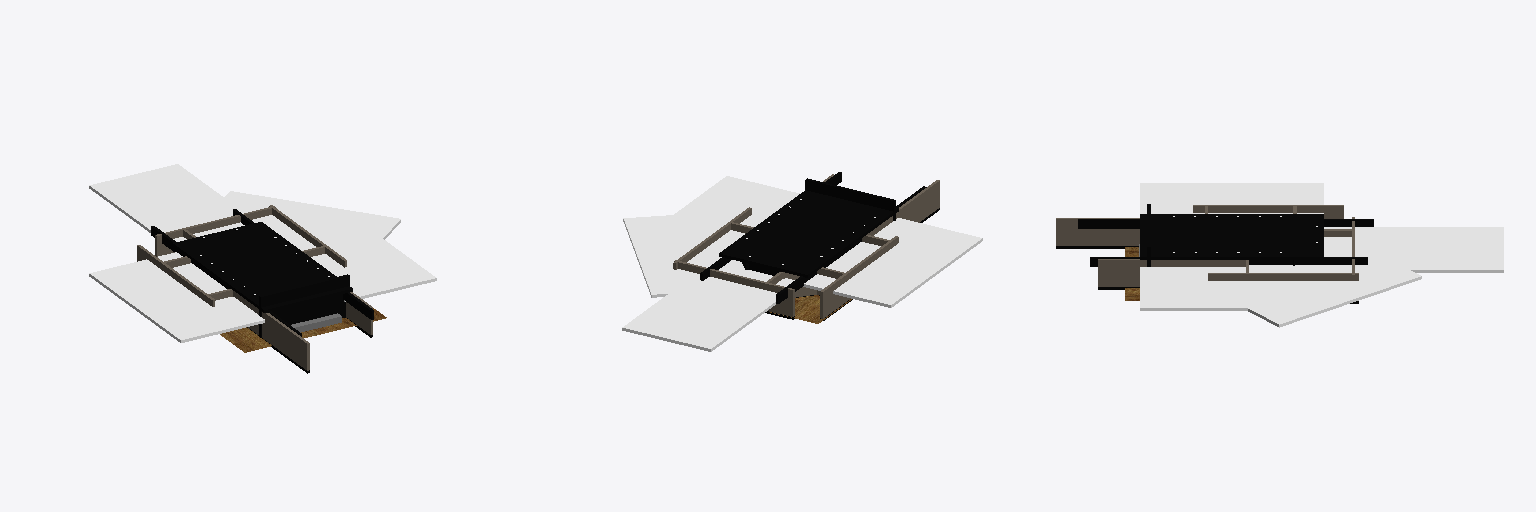
3 renders of one model, left to right at view 1: azimuth 30°, elevation 25°; view 2: azimuth 150°, elevation 25°; view 3: azimuth 270°, elevation 25°, orthographic.
Visible parts, largest first — view 1: MainCeiling, Ceiling1, Ceiling4, Ceiling2, Ceiling3, BackWall, Wall2, Floor, Wall8, RoofEdge, Wall4, Wall5; view 2: MainCeiling, Ceiling1, Ceiling4, Ceiling3, Ceiling2, Wall8, Wall2, Wall4, BackWall, RoofEdge, Floor, Wall5; view 3: MainCeiling, Ceiling2, Ceiling4, Ceiling1, Ceiling3, Wall1, Wall2, RoofEdge, Wall4, Wall5.
Boxes of the visible parts, x1,y1,x2,y2 form: MainCeiling: [173, 222, 352, 312]; Ceiling1: [89, 252, 264, 342]; Ceiling4: [89, 164, 256, 241]; Ceiling2: [272, 213, 436, 298]; Ceiling3: [201, 191, 400, 258]; BackWall: [259, 274, 349, 337]; Wall2: [233, 291, 309, 373]; Floor: [220, 308, 386, 352]; Wall8: [155, 206, 275, 256]; RoofEdge: [151, 209, 373, 336]; Wall4: [137, 245, 214, 306]; Wall5: [269, 205, 346, 267]; MainCeiling: [719, 190, 898, 277]; Ceiling1: [803, 218, 982, 307]; Ceiling4: [622, 270, 794, 351]; Ceiling3: [623, 212, 751, 297]; Ceiling2: [637, 176, 799, 258]; Wall8: [674, 260, 794, 319]; Wall2: [867, 180, 939, 235]; Wall4: [820, 236, 898, 320]; BackWall: [805, 178, 895, 220]; RoofEdge: [700, 172, 926, 303]; Floor: [770, 295, 851, 323]; Wall5: [673, 207, 751, 269]; MainCeiling: [1140, 214, 1323, 259]; Ceiling2: [1140, 265, 1323, 310]; Ceiling4: [1320, 227, 1503, 272]; Ceiling1: [1140, 183, 1323, 213]; Ceiling3: [1248, 243, 1421, 327]; Wall1: [1098, 259, 1245, 289]; Wall2: [1056, 218, 1139, 248]; RoofEdge: [1078, 219, 1373, 266]; Wall4: [1193, 205, 1343, 218]; Wall5: [1208, 273, 1358, 303].
Size of the model in its own units: 102 by 15 by 136.
Materials: 5 (1 with a texture image).